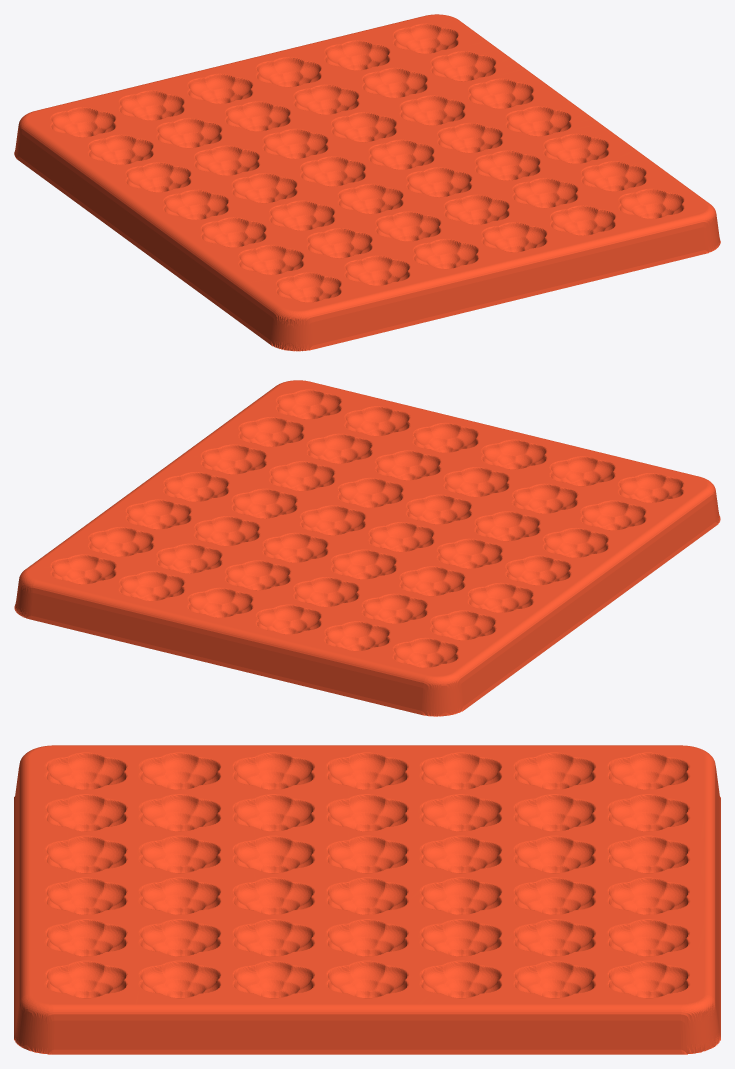
File: mold.glb
3 renders of one model, top to bottom at view 1: azimuth 30°, elevation 25°; view 2: azimuth 150°, elevation 25°; view 3: azimuth 270°, elevation 25°, orthographic. The views are drawn at different scales.
Parts seen in each view (by area): view 1: geometry_0; view 2: geometry_0; view 3: geometry_0.
Part boxes in pixels (x1,y1,x2,y2): geometry_0: (14, 14, 720, 351); geometry_0: (14, 380, 720, 716); geometry_0: (14, 745, 720, 1054).
Bounding box in the file's own units: 0.1437 × 0.0107 × 0.1581.
